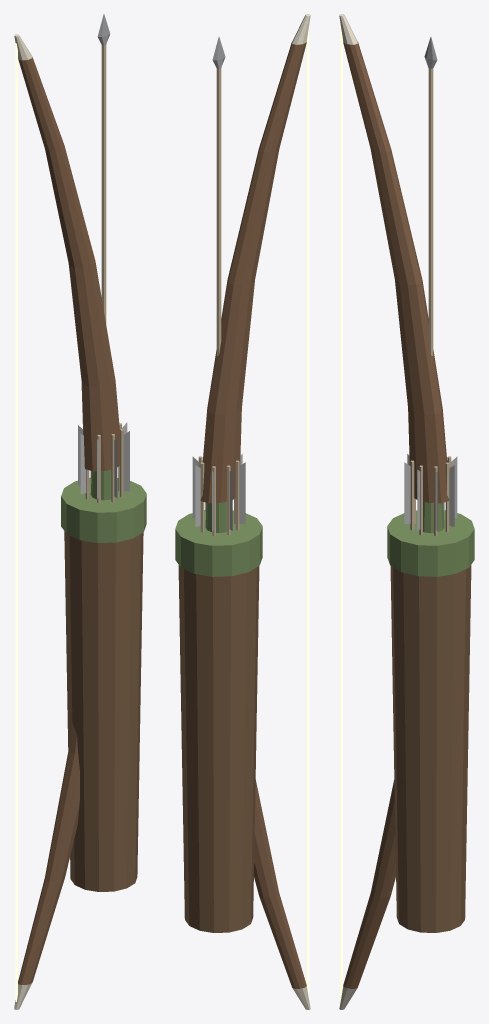
File: lanternstring.glb
The picture shows the model from 3 angles, left to right: view 1: azimuth 30°, elevation 25°; view 2: azimuth 210°, elevation 25°; view 3: azimuth 330°, elevation 25°; orthographic projection. The views are drawn at different scales.
Visible parts, largest first — view 1: carrier, weapon, arrow; view 2: carrier, weapon, arrow; view 3: carrier, weapon, arrow.
Part boxes in pixels (x1=…): carrier: x1=61, y1=422, x2=146, y2=891; weapon: x1=14, y1=34, x2=119, y2=1009; arrow: x1=97, y1=14, x2=110, y2=323; carrier: x1=175, y1=454, x2=262, y2=932; weapon: x1=200, y1=14, x2=310, y2=1009; arrow: x1=212, y1=37, x2=225, y2=355; carrier: x1=387, y1=454, x2=474, y2=932; weapon: x1=339, y1=14, x2=449, y2=1009; arrow: x1=424, y1=37, x2=437, y2=355.
Bounding box in the file's own units: 0.218 × 1.6 × 0.1248.
